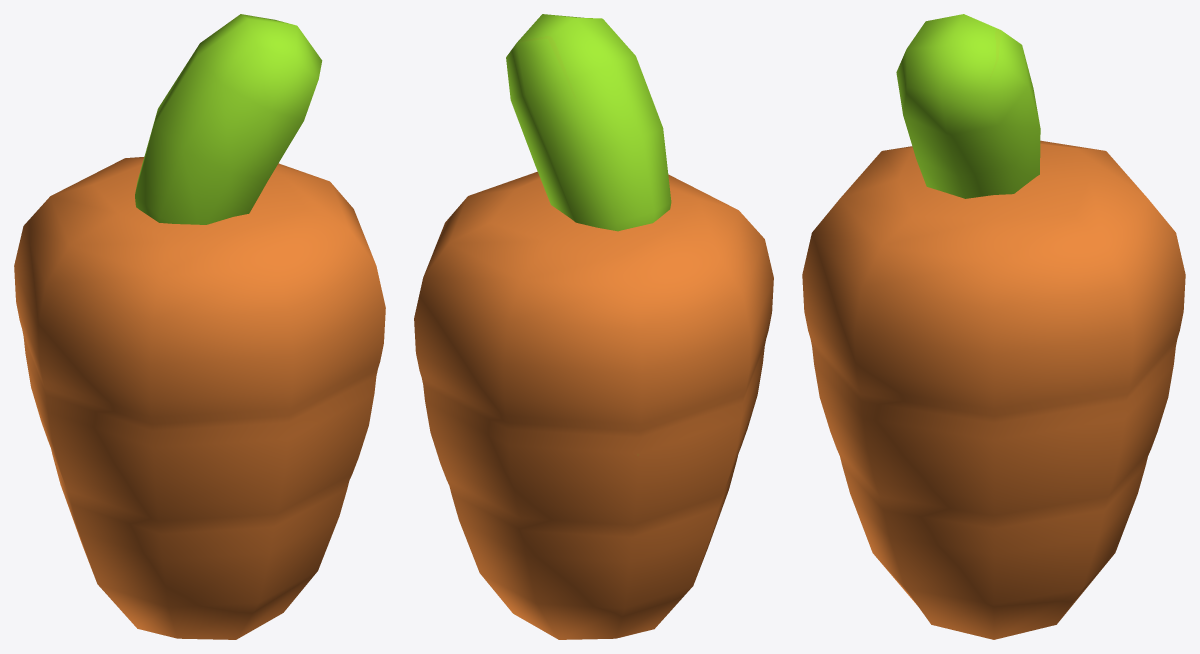
File: carrot stage 1.glb
3 renders of one model, left to right at view 1: azimuth 30°, elevation 25°; view 2: azimuth 150°, elevation 25°; view 3: azimuth 270°, elevation 25°, orthographic. The views are drawn at different scales.
Visible parts, largest first — view 1: Carrot Stage 1; view 2: Carrot Stage 1; view 3: Carrot Stage 1.
Boxes of the visible parts, x1,y1,x2,y2 form: Carrot Stage 1: [14, 14, 385, 639]; Carrot Stage 1: [414, 14, 773, 639]; Carrot Stage 1: [802, 14, 1185, 639].
Bounding box in the file's own units: 0.1462 × 0.2667 × 0.1462.
1 material, 1 textured.
